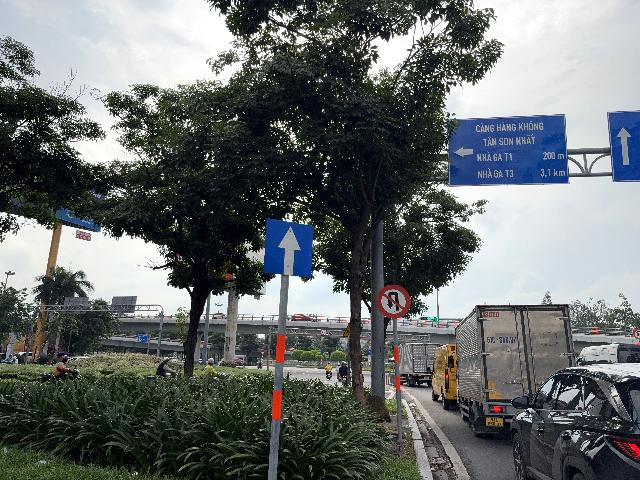cam-quay-dau-xe: (375, 284, 411, 319)
duong-mot-chieu: (263, 219, 314, 278)
